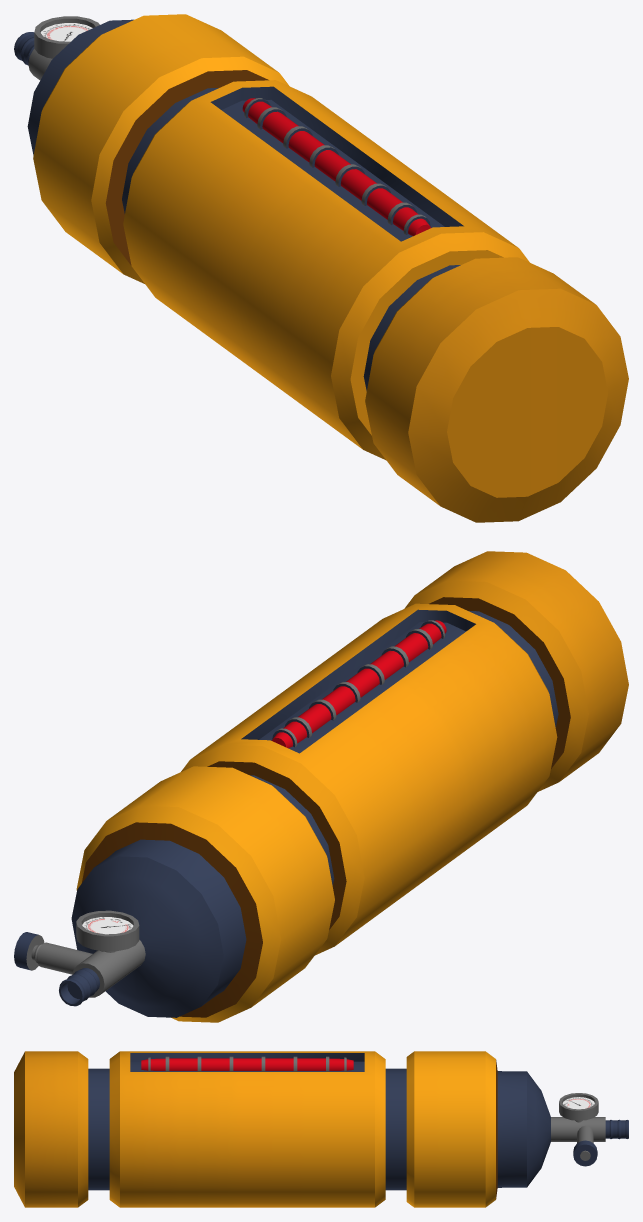
The model's file is Laughing Gas.fbx.
3 views of the same model, one above another, from view 1: azimuth 30°, elevation 25°; view 2: azimuth 150°, elevation 25°; view 3: azimuth 270°, elevation 25° (orthographic). The views are drawn at different scales.
Visible parts, largest first — view 1: Cylinder; view 2: Cylinder; view 3: Cylinder.
Boxes of the visible parts, <box> form: Cylinder: <box>14,14,628,522</box>; Cylinder: <box>14,551,628,1022</box>; Cylinder: <box>14,1051,628,1207</box>.
Size of the model in its own units: 426 by 429 by 1673.
Materials: 2 (2 with a texture image).
